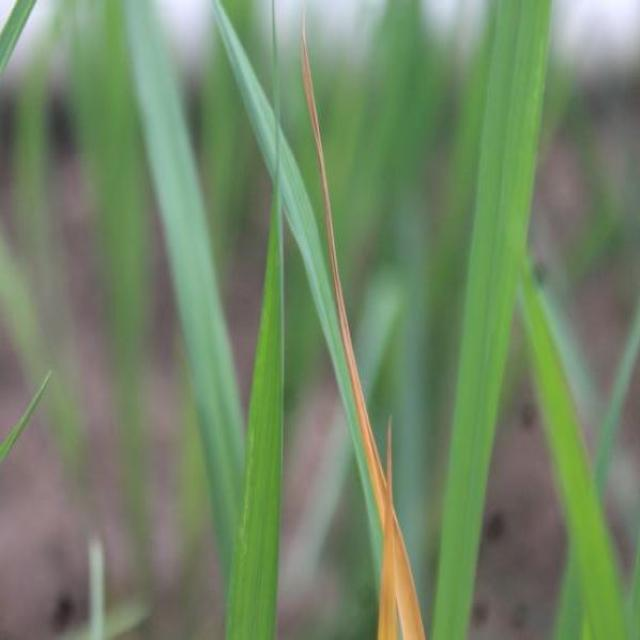Tungro: (290, 16, 451, 640)
